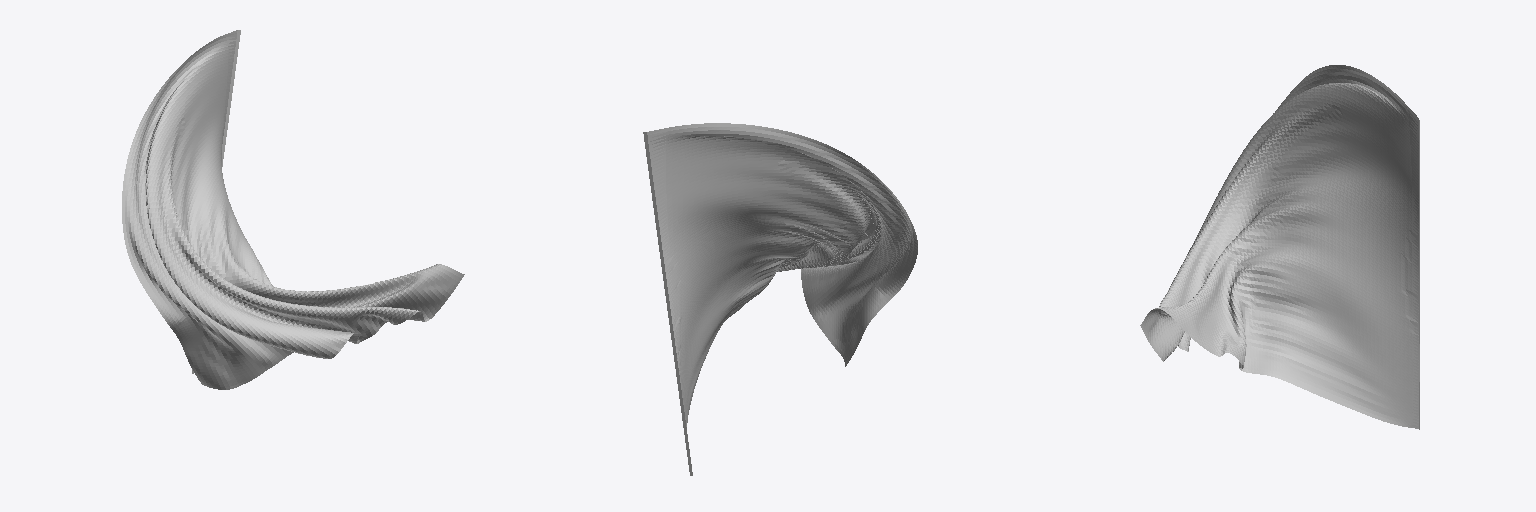
The model's file is squiggle.obj.
The picture shows the model from 3 angles: view 1: azimuth 30°, elevation 25°; view 2: azimuth 150°, elevation 25°; view 3: azimuth 270°, elevation 25°; orthographic projection.
Visible parts, largest first — view 1: max_squished11; view 2: max_squished11; view 3: max_squished11.
Boxes of the visible parts, box(x1,y1,x2,y2) form: max_squished11: box(122, 30, 464, 389); max_squished11: box(643, 123, 917, 475); max_squished11: box(1140, 65, 1419, 429).
Size of the model in its own units: 20.52 by 24.15 by 17.85.